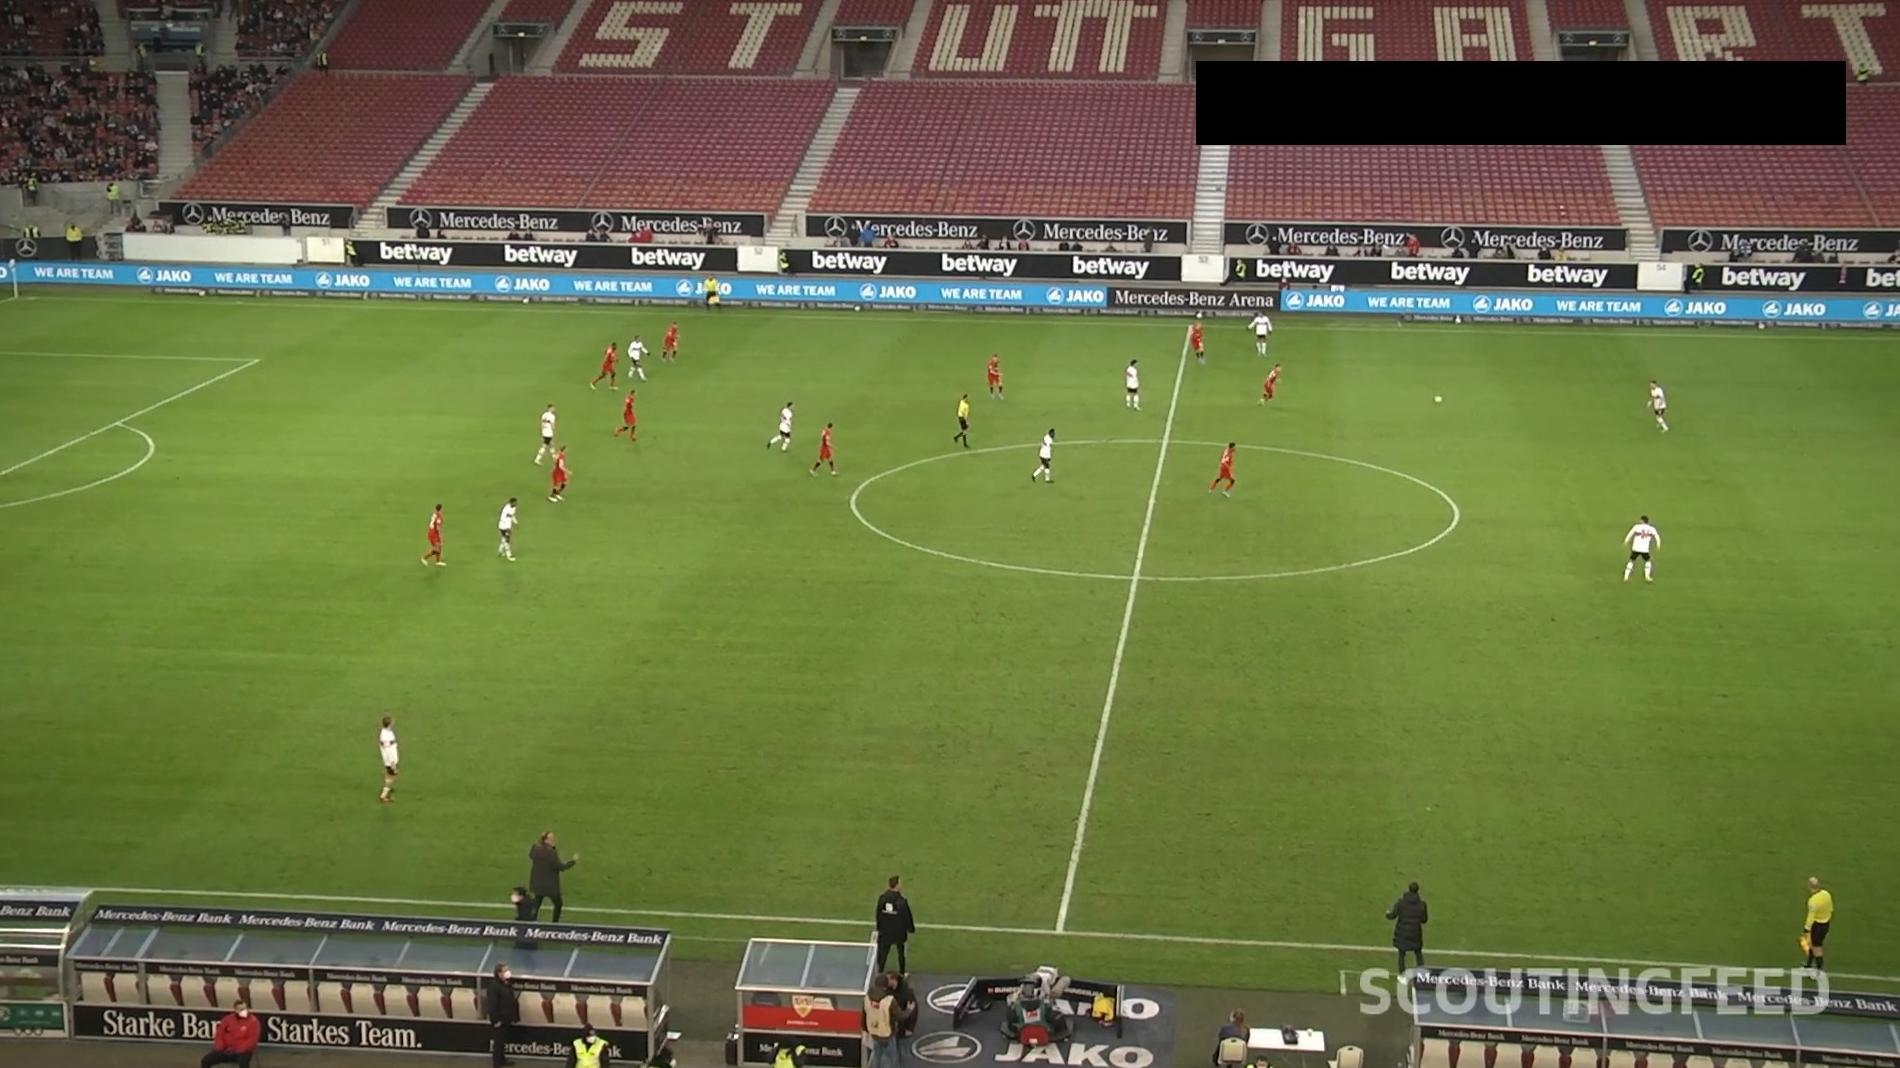ball: (1433, 394, 1443, 405)
